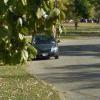Tree: (9, 0, 84, 36)
